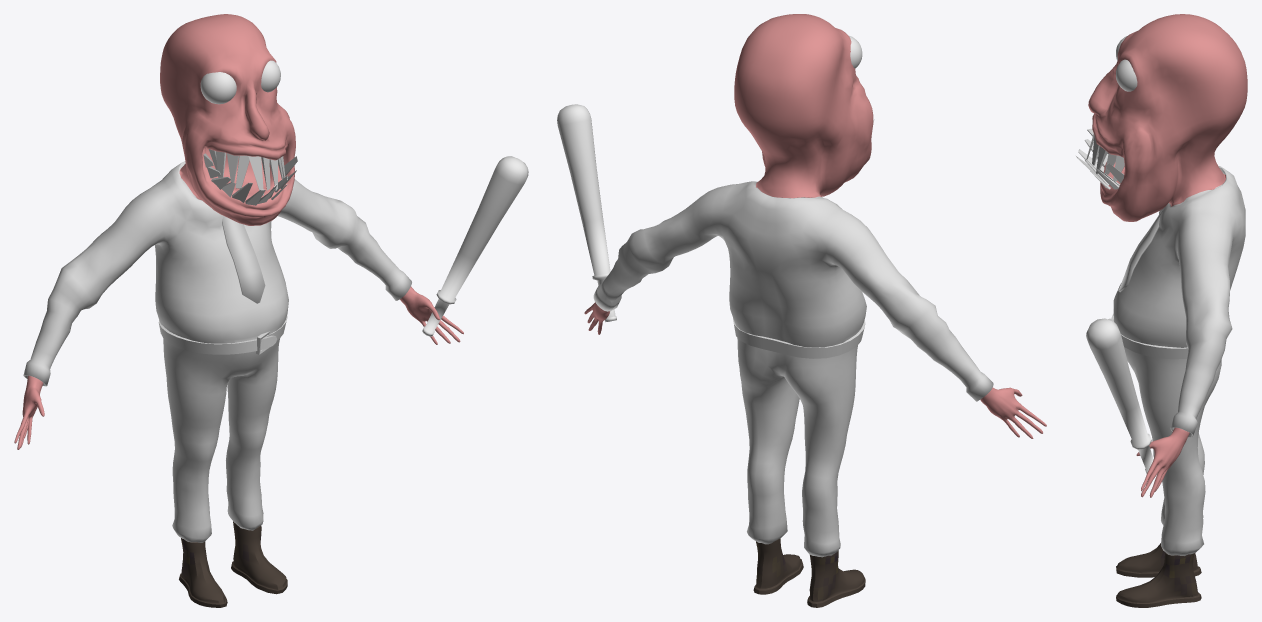
Rendered from Gunnar_MESH.fbx.
The picture shows the model from 3 angles, left to right: view 1: azimuth 30°, elevation 25°; view 2: azimuth 150°, elevation 25°; view 3: azimuth 270°, elevation 25°; orthographic projection. The views are drawn at different scales.
Visible parts, largest first — view 1: GunnarBody, Batong, GunnarBoots, GunnarTeeth, GunnarTie, Belt_LP.001, Sphere; view 2: GunnarBody, Batong, GunnarBoots, Belt_LP.001; view 3: GunnarBody, GunnarBoots, Batong, GunnarTeeth, Belt_LP.001, GunnarTie, Sphere.
Part boxes in pixels (x1,y1,x2,y2): GunnarBody: (14,14,463,542); Batong: (422,156,528,336); GunnarBoots: (179,521,287,607); GunnarTeeth: (203,149,297,205); GunnarTie: (222,216,265,303); Belt_LP.001: (158,315,287,354); Sphere: (200,60,280,104); GunnarBody: (584,14,1046,557); Batong: (557,104,616,322); GunnarBoots: (753,538,865,607); Belt_LP.001: (733,318,865,358); GunnarBody: (1088,14,1247,555); GunnarBoots: (1116,543,1201,607); Batong: (1086,318,1153,473); GunnarTeeth: (1075,128,1124,189); Belt_LP.001: (1108,313,1188,359); GunnarTie: (1118,210,1163,292); Sphere: (1116,36,1137,91).
Size of the model in its own units: 180 by 194 by 53.75.
